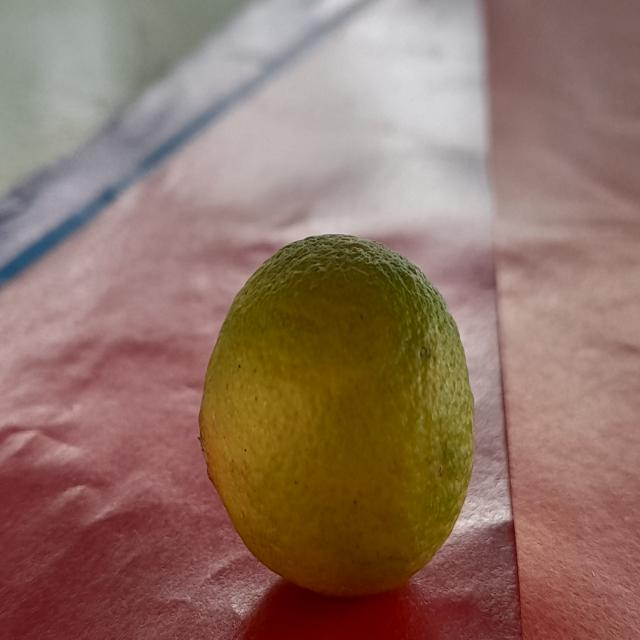greening: (202, 226, 472, 602)
